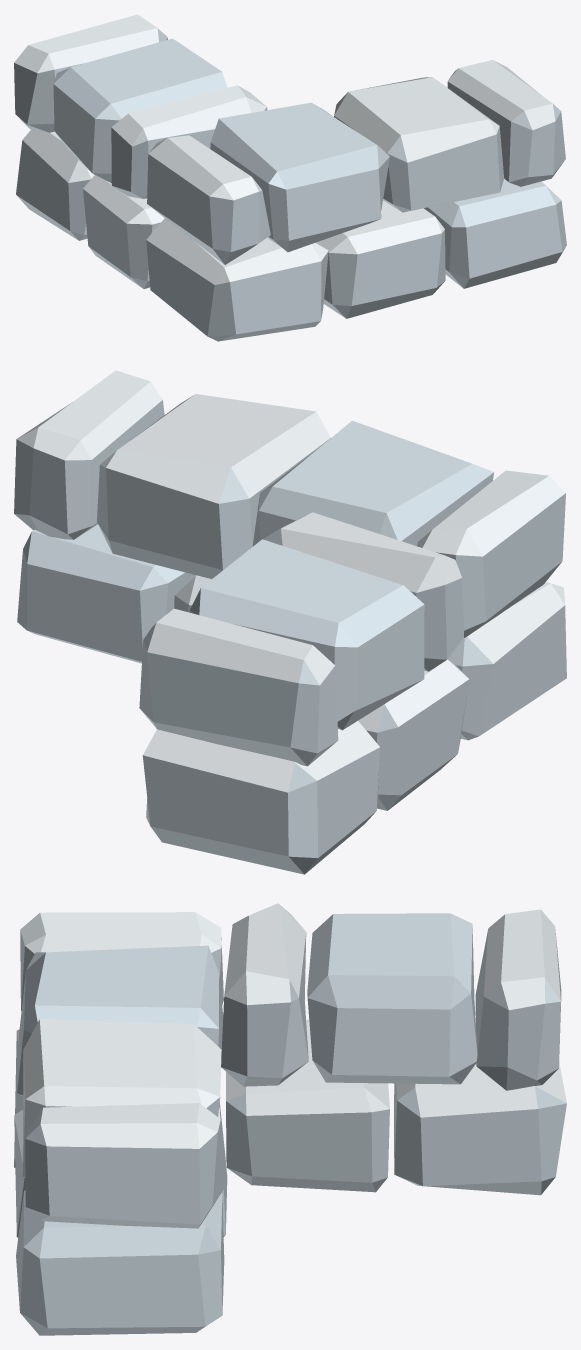
The model's file is snow_wall_corner.glb.
3 views of the same model, one above another, from view 1: azimuth 30°, elevation 25°; view 2: azimuth 150°, elevation 25°; view 3: azimuth 270°, elevation 25° (orthographic). The views are drawn at different scales.
Visible parts, largest first — view 1: snow_wall_corner; view 2: snow_wall_corner; view 3: snow_wall_corner.
Boxes of the visible parts, x1=… form: snow_wall_corner: x1=14, y1=14, x2=566, y2=341; snow_wall_corner: x1=14, y1=370, x2=566, y2=874; snow_wall_corner: x1=14, y1=903, x2=566, y2=1335.
Size of the model in its own units: 1.62 by 0.7274 by 1.62.
